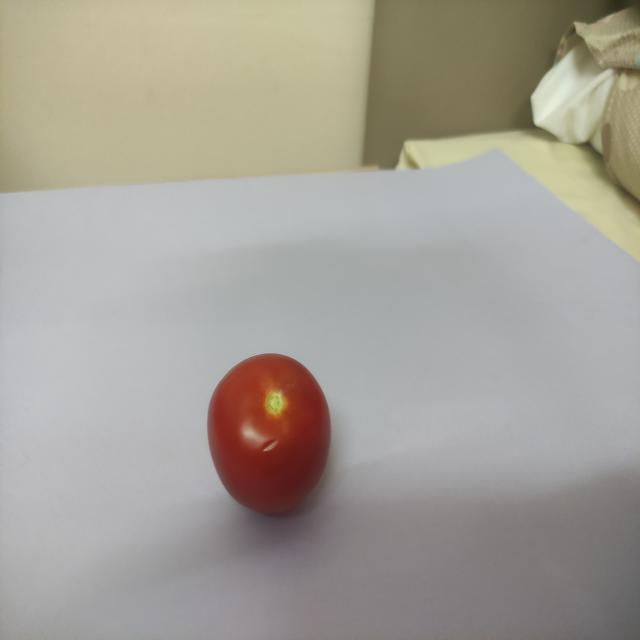kirmizi: (190, 356, 352, 527)
